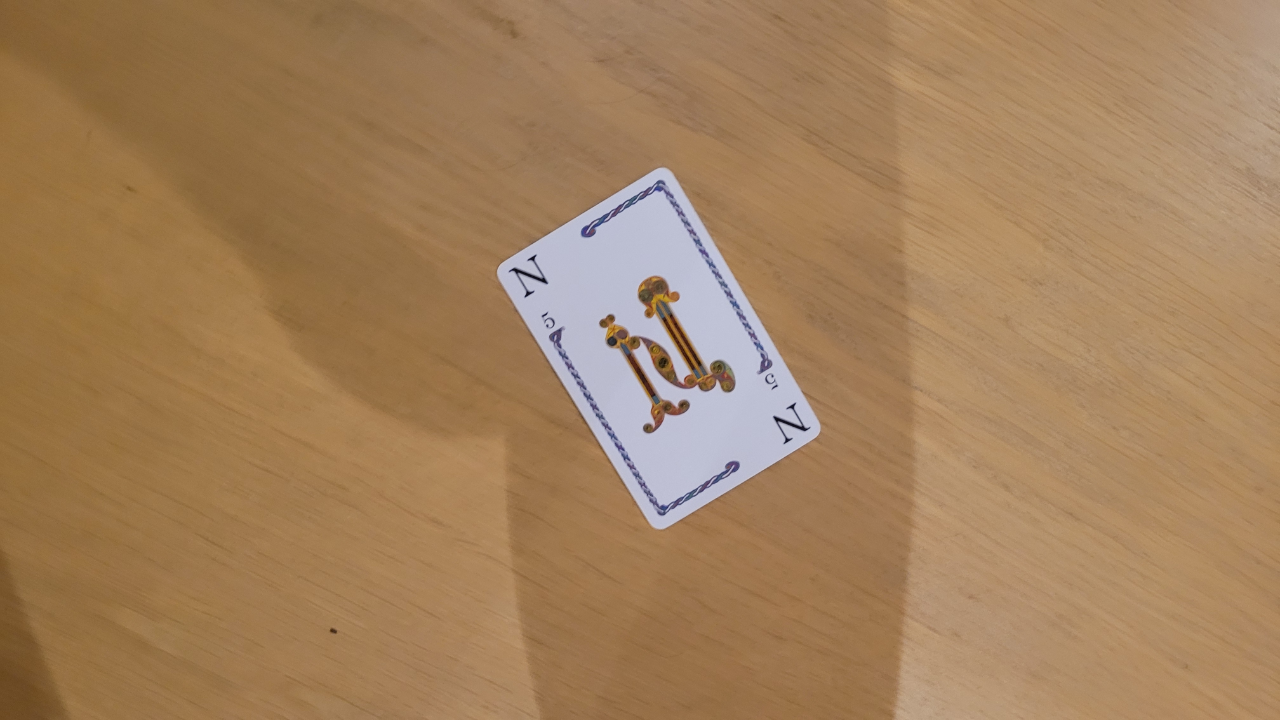quiddler_card: (453, 146, 873, 551)
